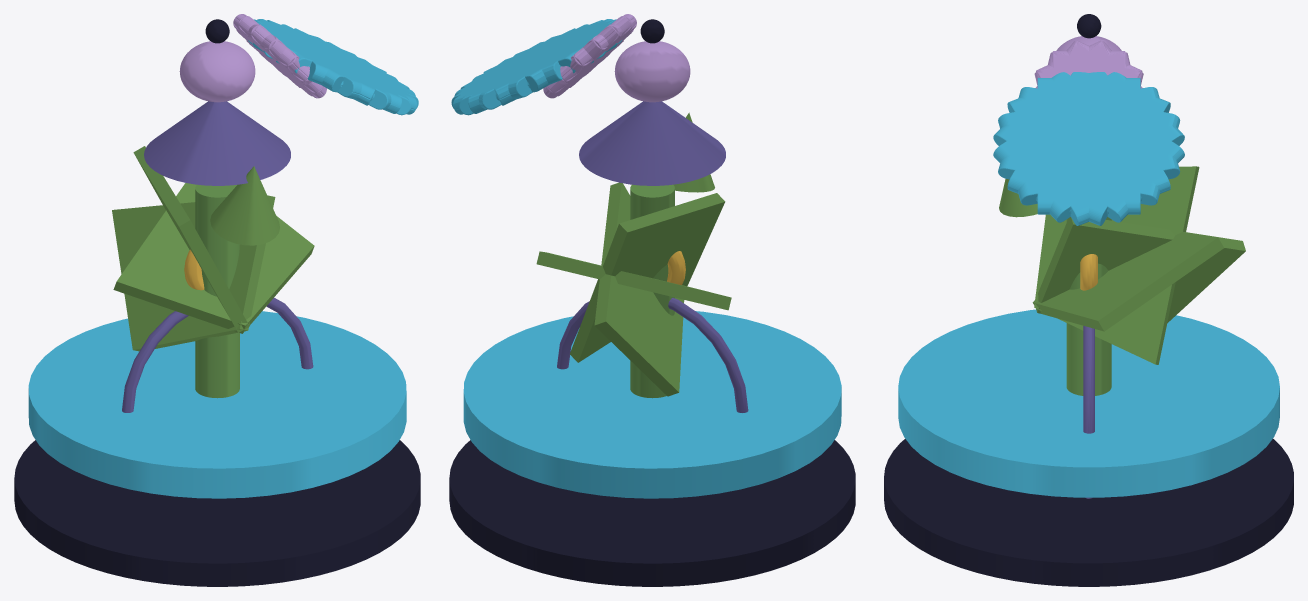
Rendered from 0111_植物图鉴_大彗星兰.glb.
3 renders of one model, left to right at view 1: azimuth 30°, elevation 25°; view 2: azimuth 150°, elevation 25°; view 3: azimuth 270°, elevation 25°, orthographic.
Visible parts, largest first — view 1: card_0111; view 2: card_0111; view 3: card_0111.
Part boxes in pixels (x1,y1,x2,y2): card_0111: [14, 14, 420, 586]; card_0111: [449, 14, 855, 586]; card_0111: [884, 14, 1293, 586].
Bounding box in the file's own units: 0.7888 × 1 × 0.7657.
